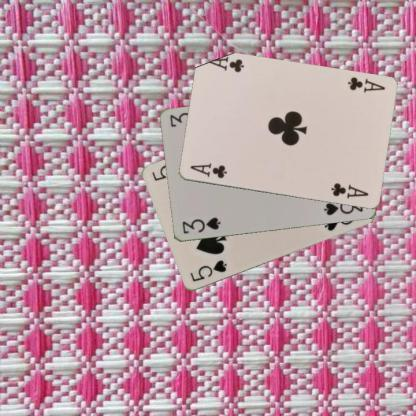3s: (179, 215, 222, 236)
5s: (187, 258, 228, 283)
Ac: (344, 74, 386, 94), (187, 161, 228, 180)
